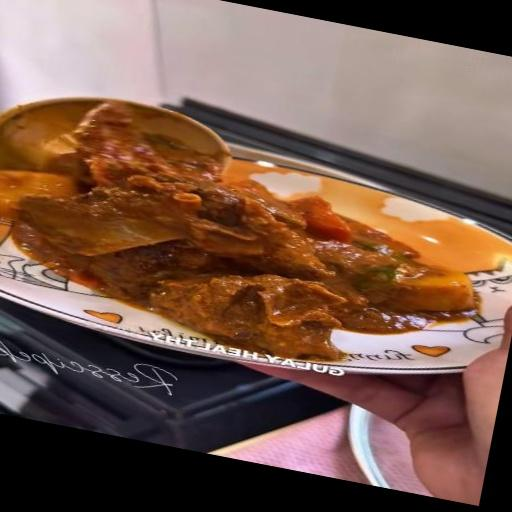pork caldereta: (25, 111, 478, 350)
